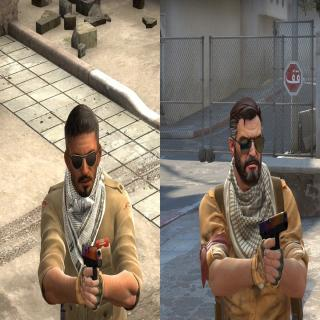T-Body: (201, 91, 308, 320), (42, 99, 140, 320)
T-Head: (64, 101, 102, 203), (227, 94, 266, 192)
